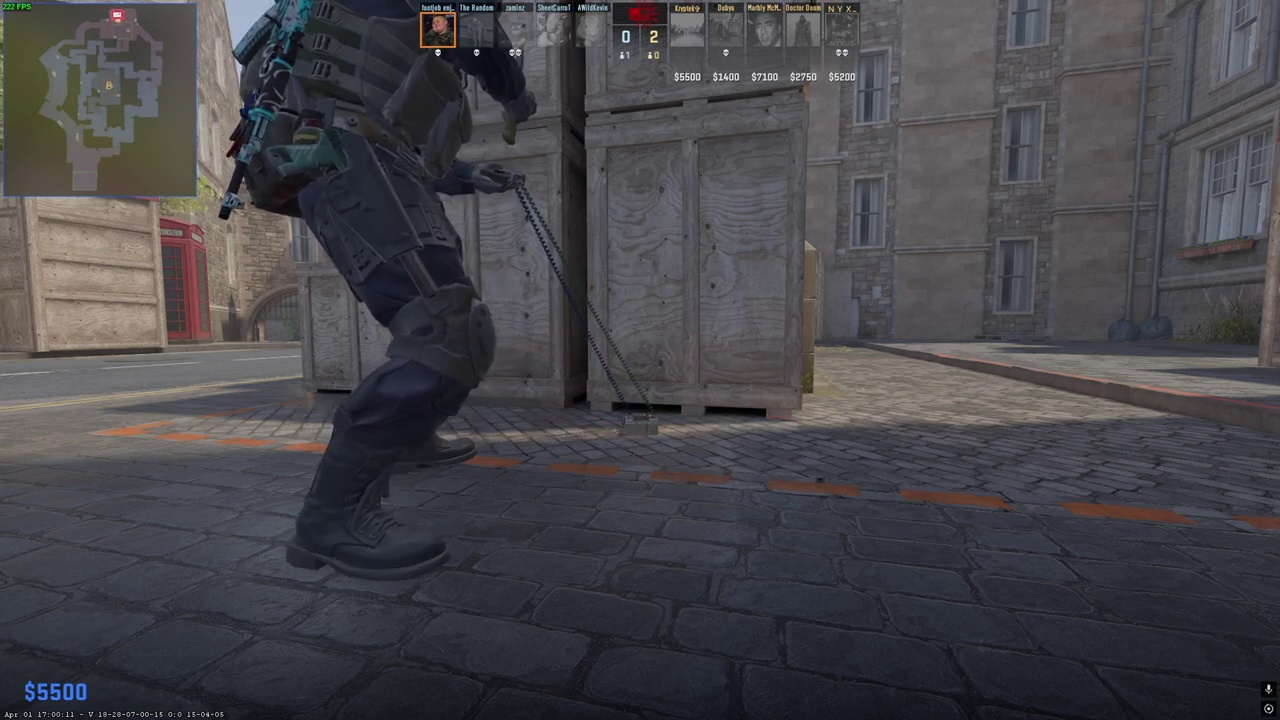CT: (237, 0, 523, 583)
